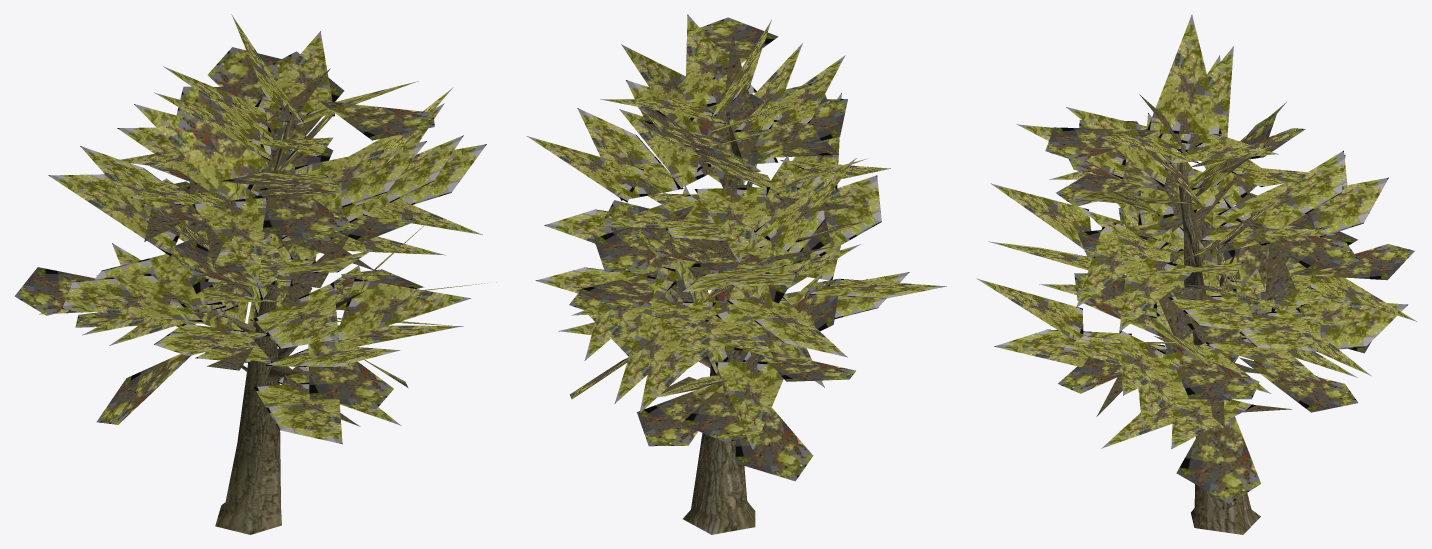
The model's file is tree-oak.lod1.glb.
3 renders of one model, left to right at view 1: azimuth 30°, elevation 25°; view 2: azimuth 150°, elevation 25°; view 3: azimuth 270°, elevation 25°, orthographic. The views are drawn at different scales.
Parts seen in each view (by area): view 1: leafplanes_10_3_leaf1_0, treelarge_bark1_0; view 2: leafplanes_10_3_leaf1_0, treelarge_bark1_0; view 3: leafplanes_10_3_leaf1_0, treelarge_bark1_0.
Boxes of the visible parts, <box> form: leafplanes_10_3_leaf1_0: <box>14,14,490,444</box>; treelarge_bark1_0: <box>215,119,365,534</box>; leafplanes_10_3_leaf1_0: <box>527,14,946,481</box>; treelarge_bark1_0: <box>683,109,755,534</box>; leafplanes_10_3_leaf1_0: <box>977,15,1416,503</box>; treelarge_bark1_0: <box>1154,144,1260,534</box>.
Size of the model in its own units: 10.74 by 13 by 10.62.
2 materials, 2 textured.
